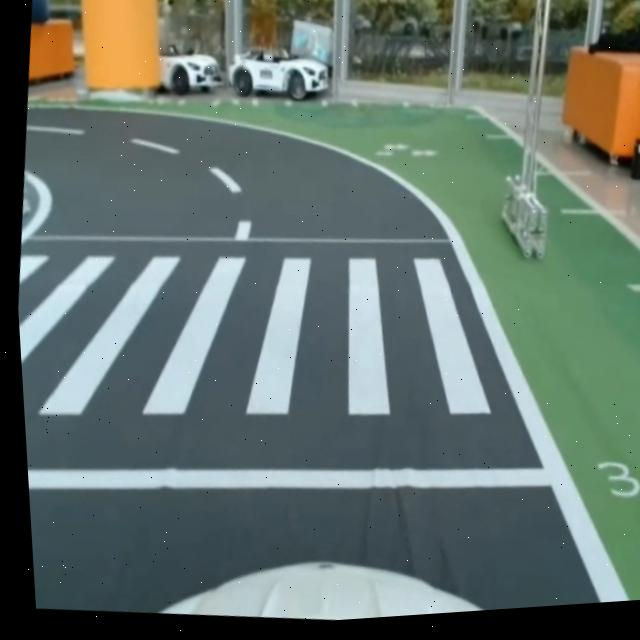traffic-light: (143, 0, 350, 5)
